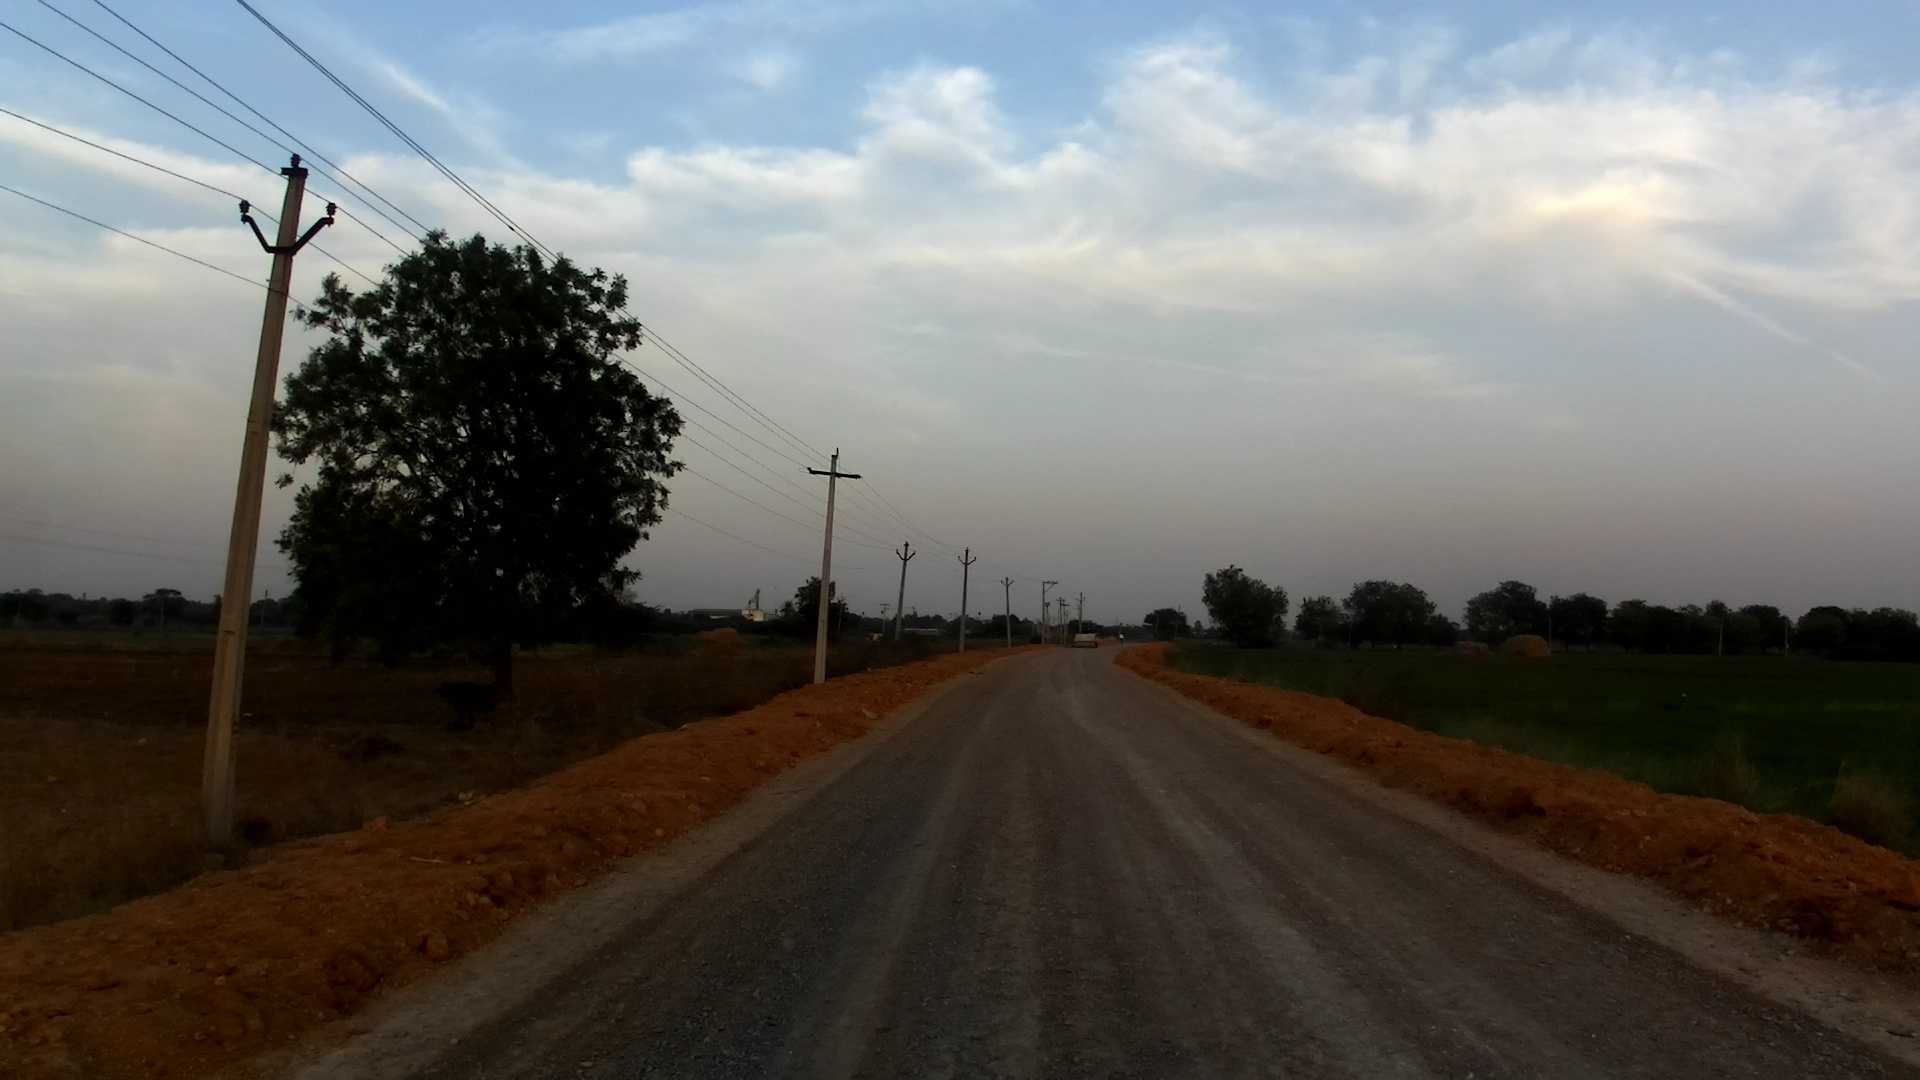vehicle fallback: (1069, 626, 1100, 651), (1120, 633, 1129, 646)
